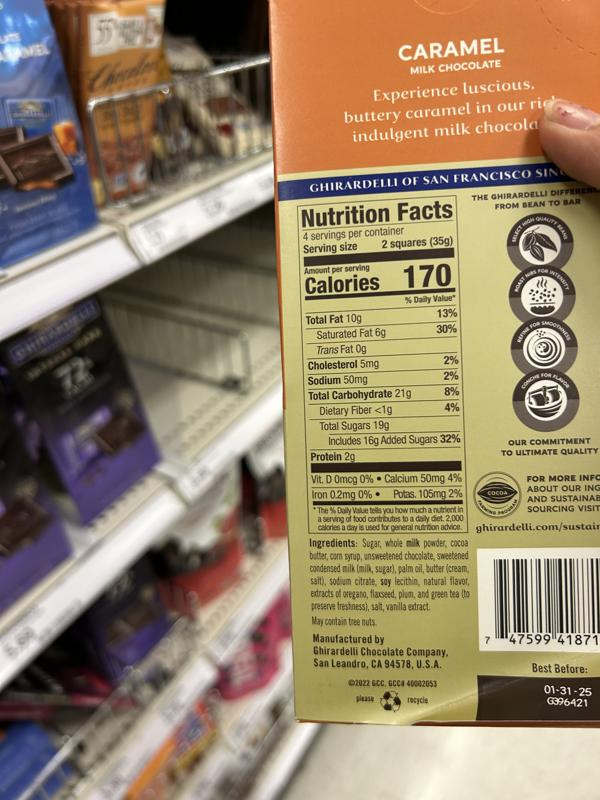ingredients: (307, 537, 472, 613)
